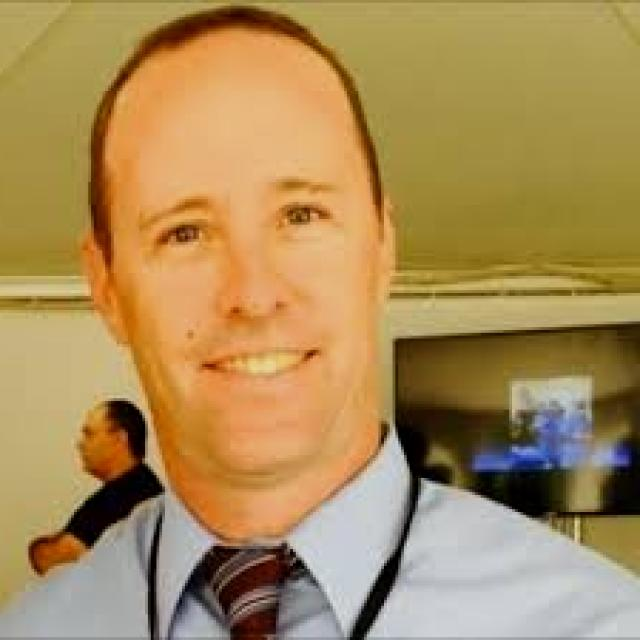normal_face: (98, 33, 396, 490)
